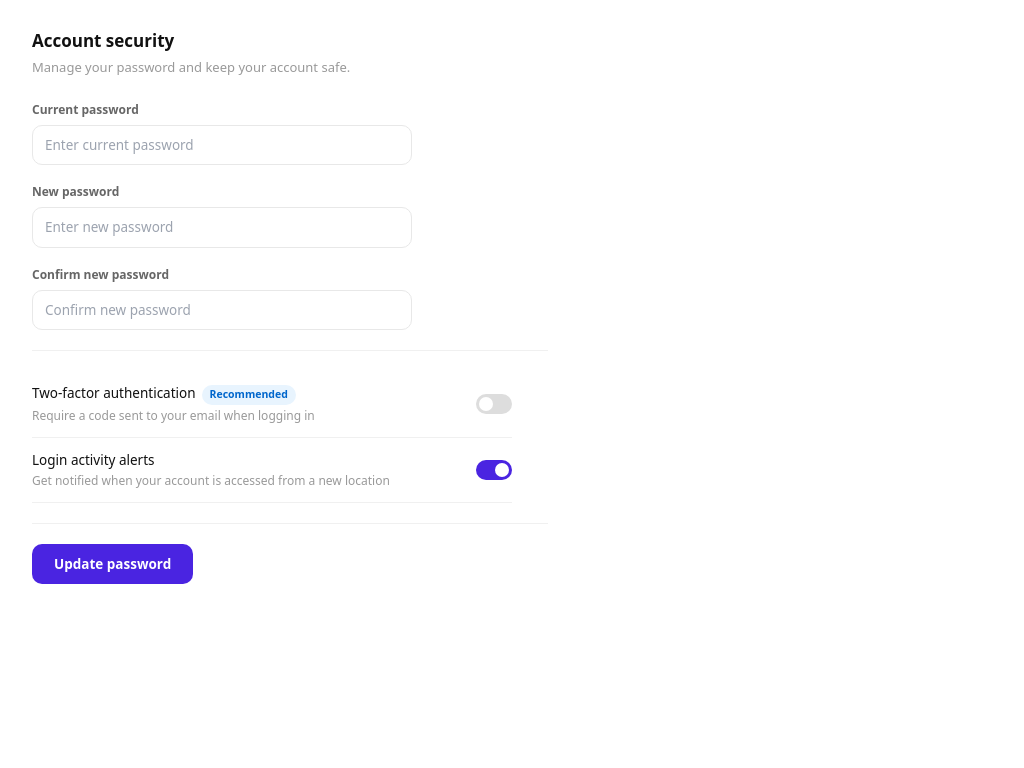
SecuritySection › login activity alerts toggle › rolls back the toggle and shows an error toast when the save fails
Click the checkbox in the row of "Login activity alerts".
click(494, 470)  # box [476,460,512,480]
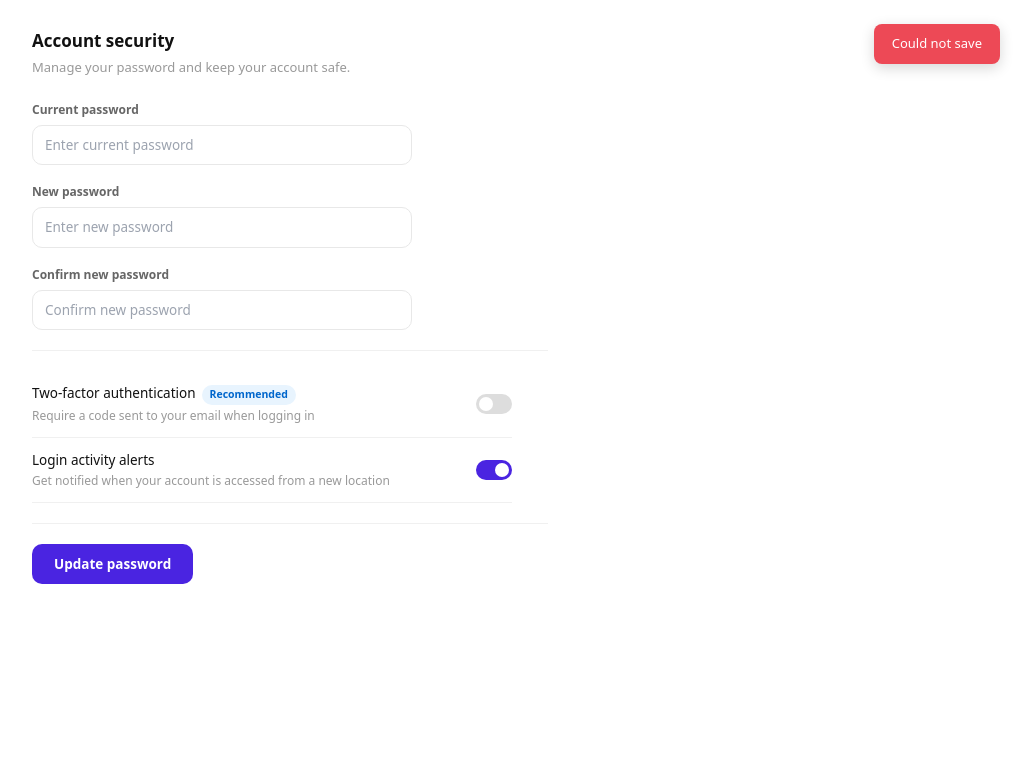
Result: the text "Could not save" is shown at [874,24,1000,64]
